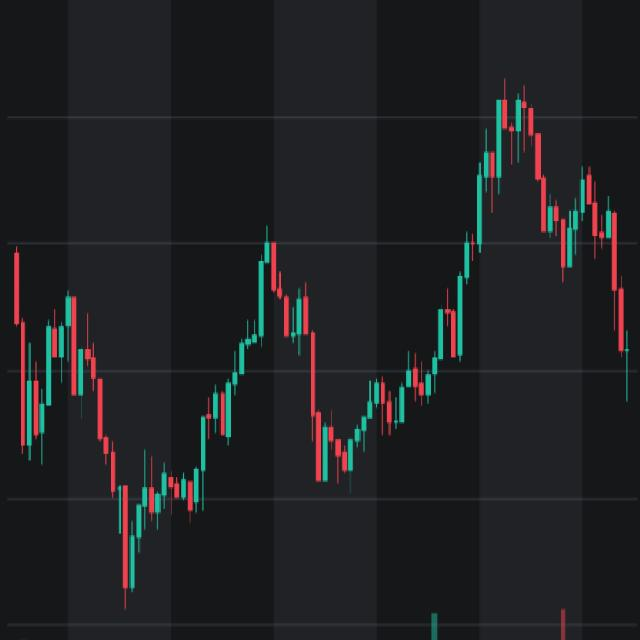Channel-up: (26, 22, 613, 640)
